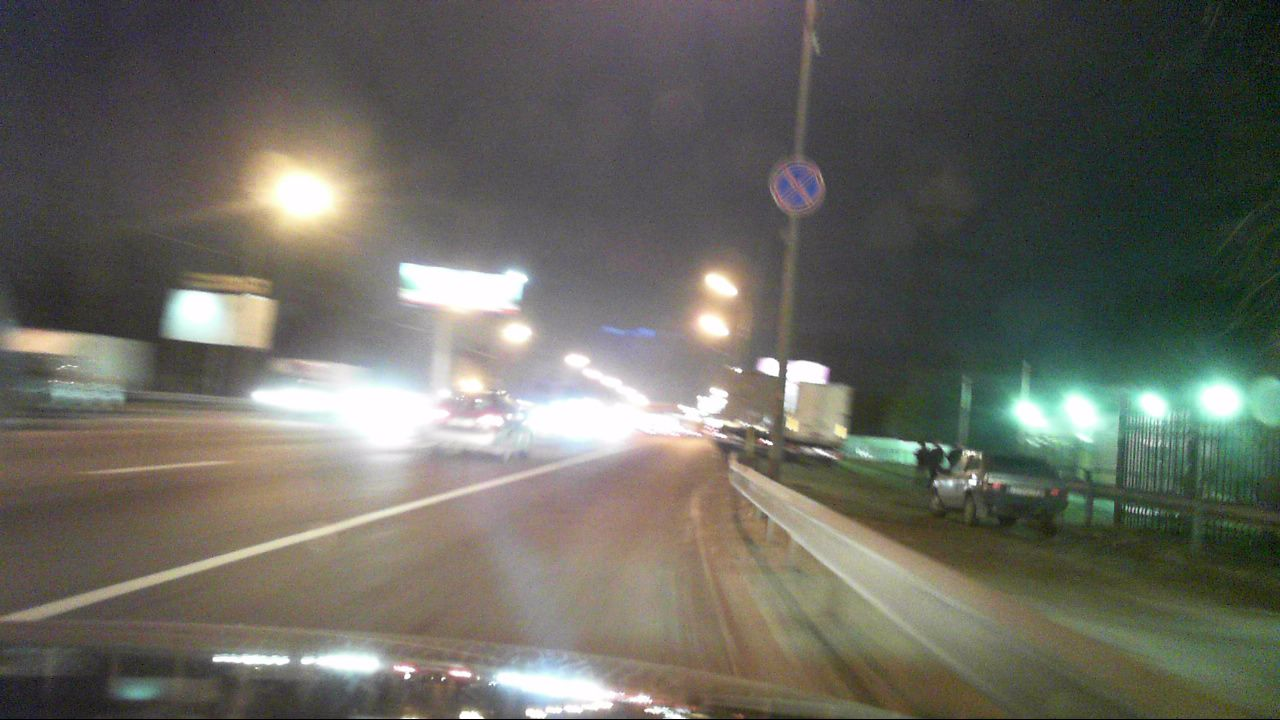No Parking: (771, 158, 825, 213)
